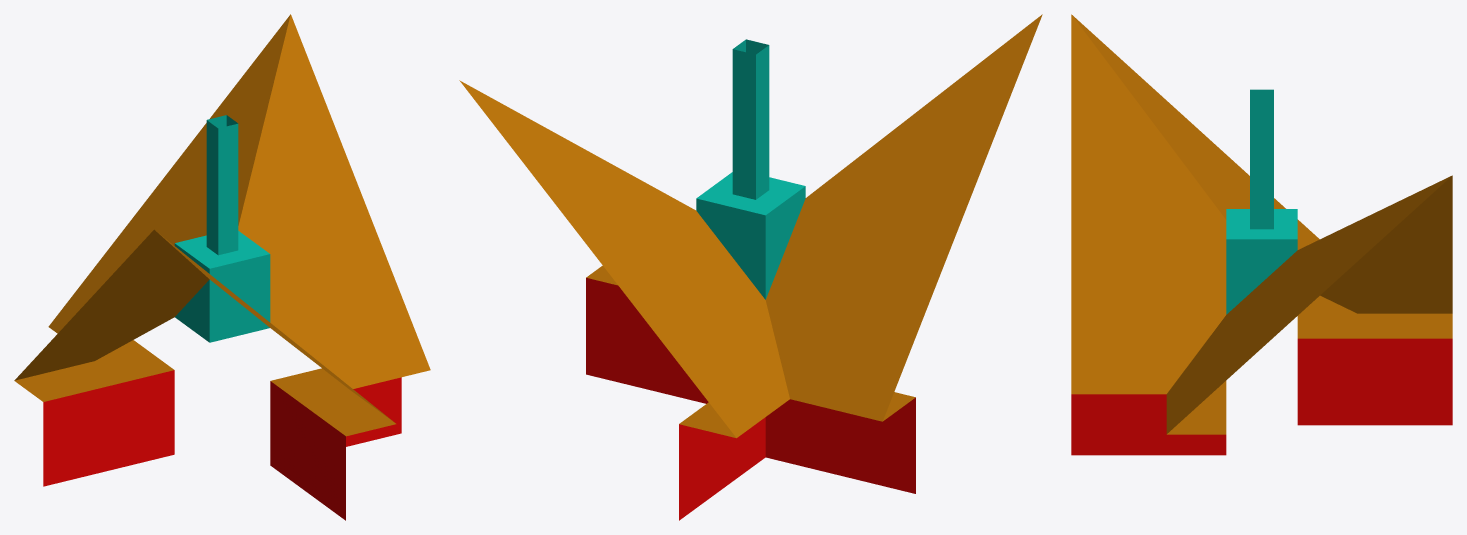
File: None_S_E_E_E_E_S_E_E_BigStrut.fbx
The picture shows the model from 3 angles, left to right: view 1: azimuth 30°, elevation 25°; view 2: azimuth 150°, elevation 25°; view 3: azimuth 270°, elevation 25°; orthographic projection. The views are drawn at different scales.
Visible parts, largest first — view 1: None_S_E_E_E_E_S_E_E_BigStrut; view 2: None_S_E_E_E_E_S_E_E_BigStrut; view 3: None_S_E_E_E_E_S_E_E_BigStrut.
Part boxes in pixels (x1,y1,x2,y2): None_S_E_E_E_E_S_E_E_BigStrut: (14,14,430,520); None_S_E_E_E_E_S_E_E_BigStrut: (459,14,1042,520); None_S_E_E_E_E_S_E_E_BigStrut: (1071,14,1452,455).
Size of the model in its own units: 100 by 100 by 100.
